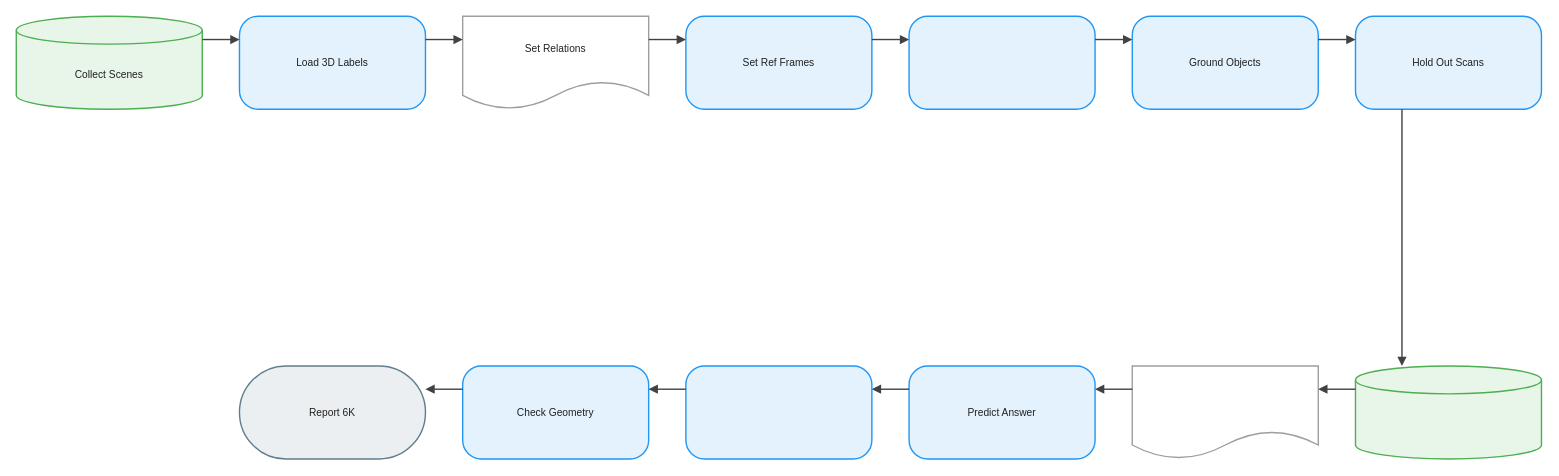
Image size: 1559x476. Some labels were removed from this diagram. The centre of each missing label's shape, as x and y in pixels:
"Give Scene" goes at (x=1225, y=412).
"Package 3M" goes at (x=1448, y=412).
"Parse Output" goes at (x=778, y=412).
"Sample Targets" goes at (x=1001, y=62).
